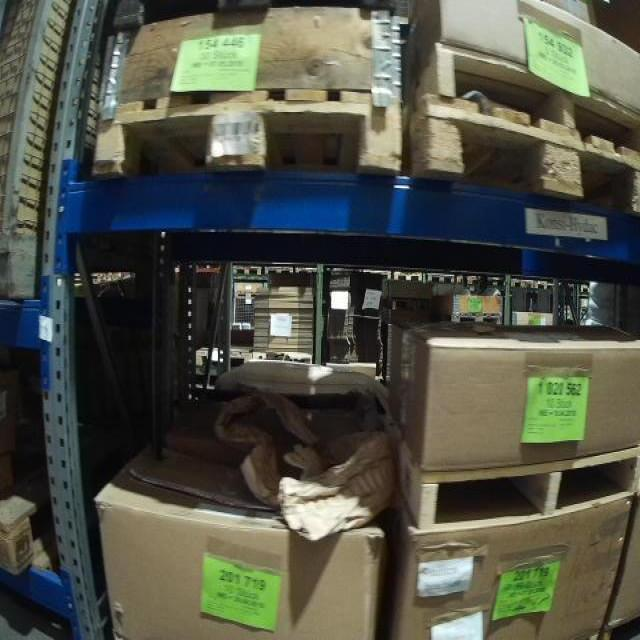pallet: (384, 411, 640, 536), (414, 97, 640, 218), (89, 100, 408, 179), (1, 479, 49, 579)
